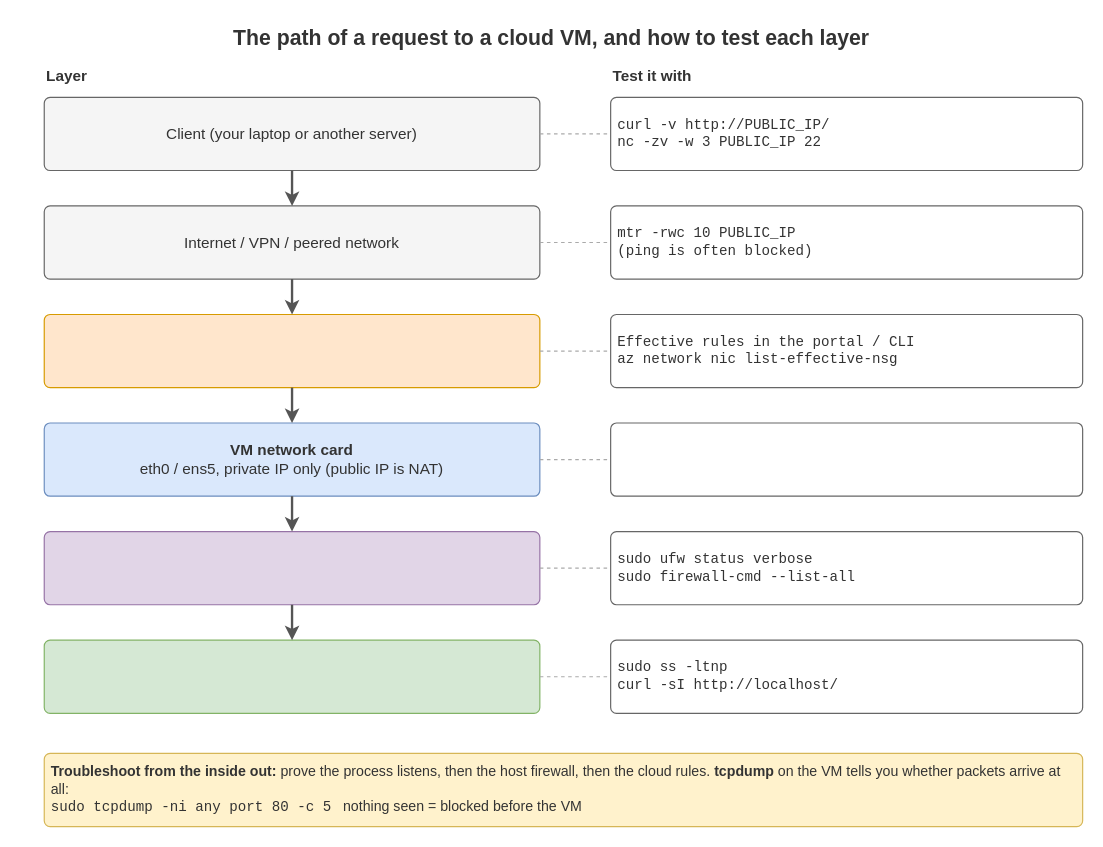
Image size: 1103x847. Some labels were removed from this diagram. Here are the shapes that lost their labels. From the top down, the centre of each, then its label:
At (291,350): "Cloud network rules Azure NSG, AWS security group + NACL, GCP firewall rule".
At (846,459): "ip -brief address ip route".
At (291,567): "Linux host firewall ufw (Ubuntu) or firewalld (Red Hat family)".
At (291,676): "Process listening on the port nginx :80, sshd :22 (0.0.0.0 or 127.0.0.1?)".
